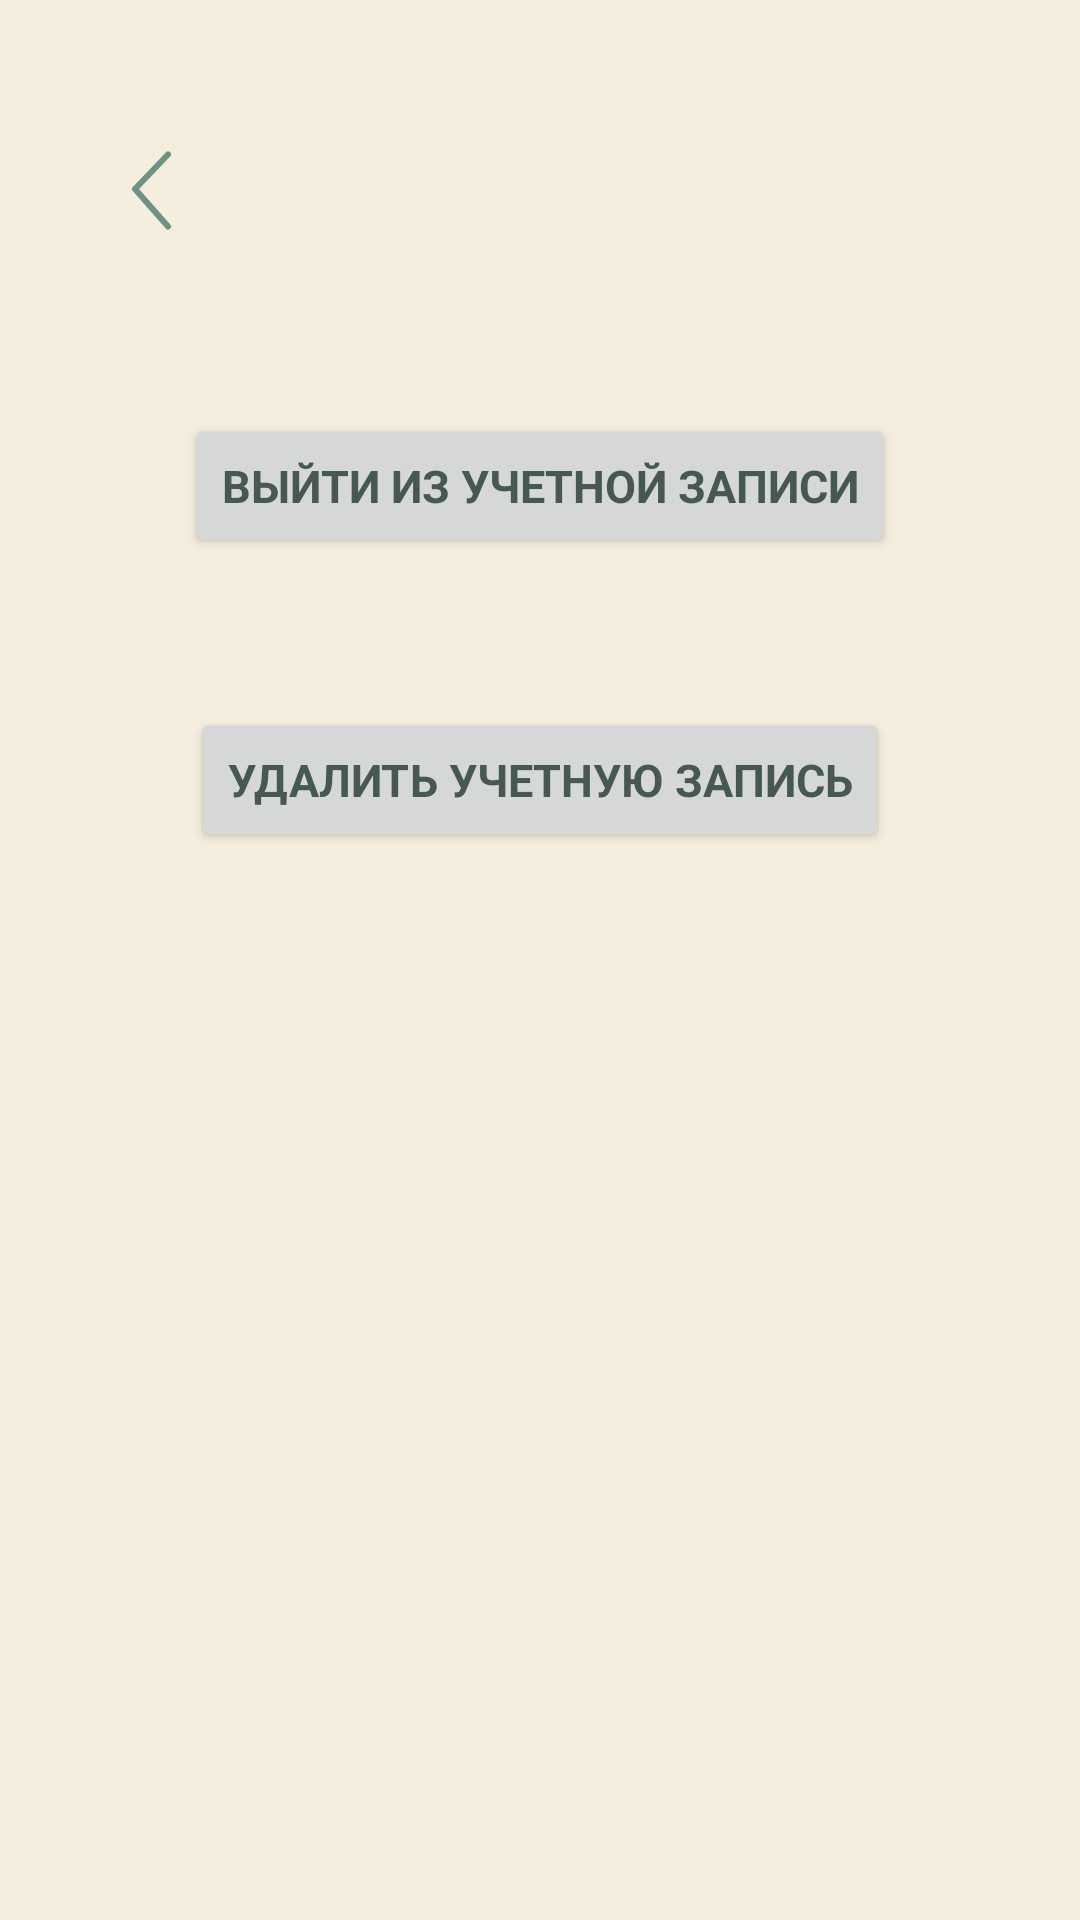

Icons on this 1080 × 1920 Android screen, each with its box as [x1=x1, y1=y1, x2=x2, y2=y2]:
Back Button: [x1=132, y1=151, x2=171, y2=230]
